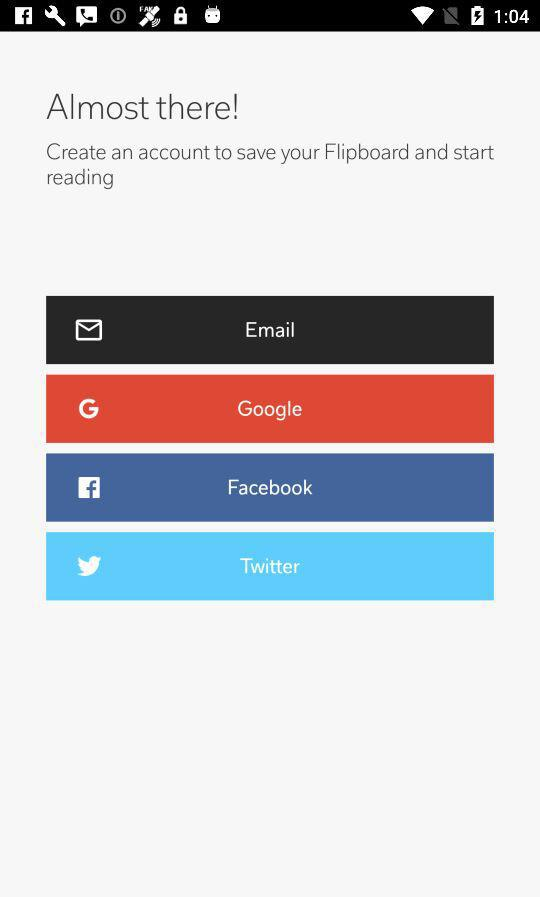Text: (47, 143, 495, 191), (46, 93, 239, 122)
TextButton: (46, 453, 495, 523), (46, 375, 495, 444), (46, 296, 495, 365), (46, 532, 494, 601)
UpperTaskBar: (1, 1, 540, 33)
